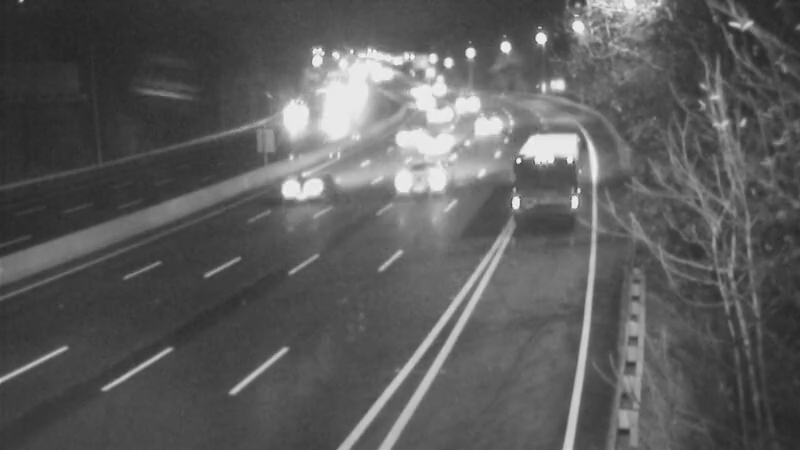vehicle: (489, 158, 569, 238), (385, 142, 465, 222), (260, 147, 340, 227), (397, 77, 447, 127), (439, 78, 489, 128), (409, 93, 459, 143), (463, 102, 513, 152), (380, 109, 430, 159), (412, 115, 462, 165), (271, 91, 321, 141)
